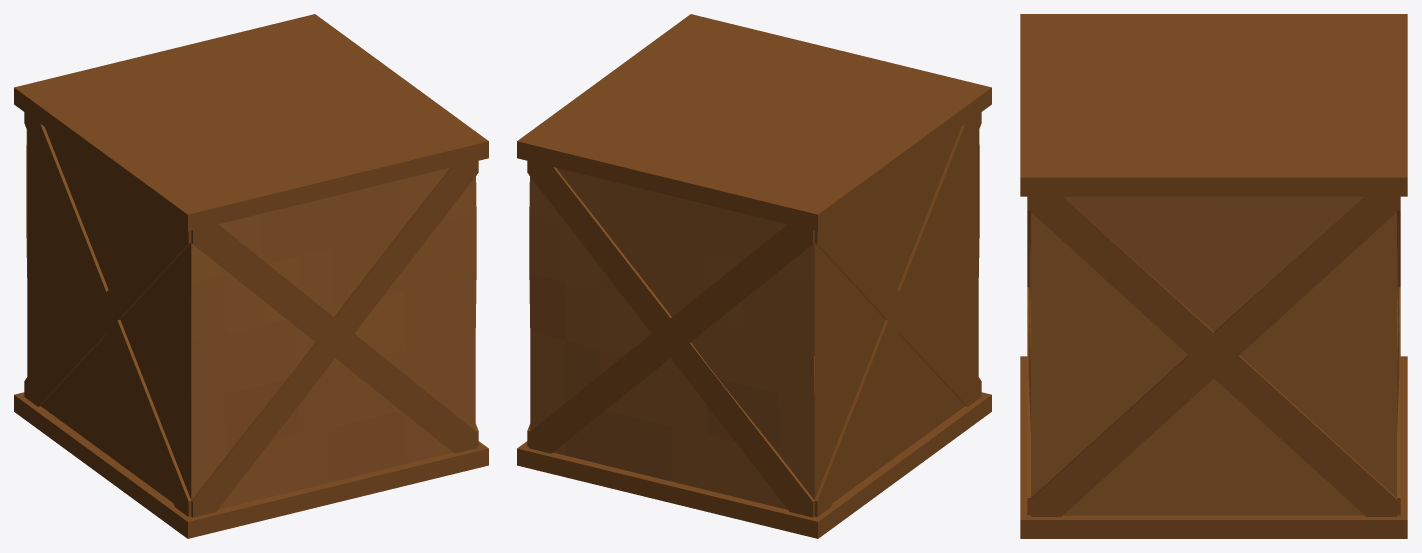
File: Crate.fbx
The picture shows the model from 3 angles, left to right: view 1: azimuth 30°, elevation 25°; view 2: azimuth 150°, elevation 25°; view 3: azimuth 270°, elevation 25°; orthographic projection. The views are drawn at different scales.
Parts seen in each view (by area): view 1: Cube, Cube.001, Cube.002; view 2: Cube, Cube.001, Cube.002; view 3: Cube, Cube.001, Cube.002.
Part boxes in pixels (x1,y1,x2,y2): Cube: (24,112,478,517); Cube.001: (14,14,488,231); Cube.002: (14,356,488,538); Cube: (527,112,981,517); Cube.001: (517,14,991,231); Cube.002: (517,356,991,538); Cube: (1027,196,1400,516); Cube.001: (1020,14,1407,196); Cube.002: (1020,356,1407,538).
Size of the model in its own units: 212 by 218 by 212.
